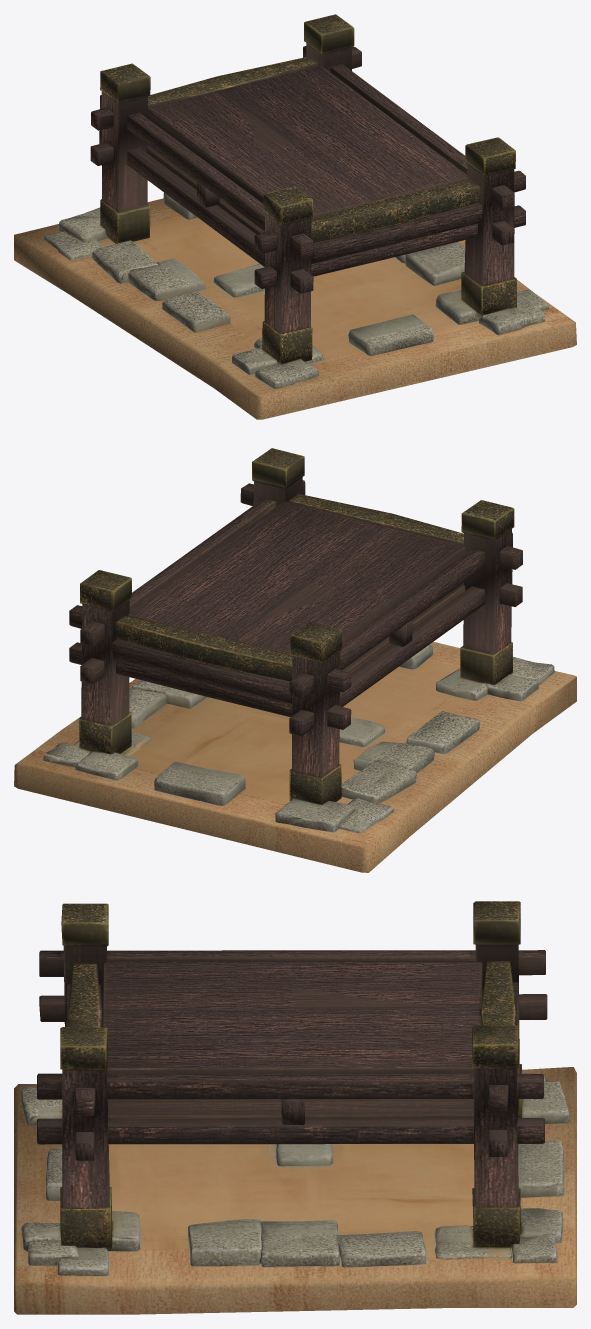
The model's file is tripo_convert_4351aab0-9ce8-4def-9a00-63ba117dc352.fbx.
3 renders of one model, top to bottom at view 1: azimuth 30°, elevation 25°; view 2: azimuth 150°, elevation 25°; view 3: azimuth 270°, elevation 25°, orthographic. The views are drawn at different scales.
Visible parts, largest first — view 1: tripo_node_4351aab0; view 2: tripo_node_4351aab0; view 3: tripo_node_4351aab0.
Boxes of the visible parts, bbox=[...] form: tripo_node_4351aab0: bbox=[14, 14, 576, 419]; tripo_node_4351aab0: bbox=[14, 448, 576, 872]; tripo_node_4351aab0: bbox=[14, 901, 576, 1314].
Bounding box in the file's own units: 0.877 × 0.4785 × 0.998.
1 material, 1 textured.
